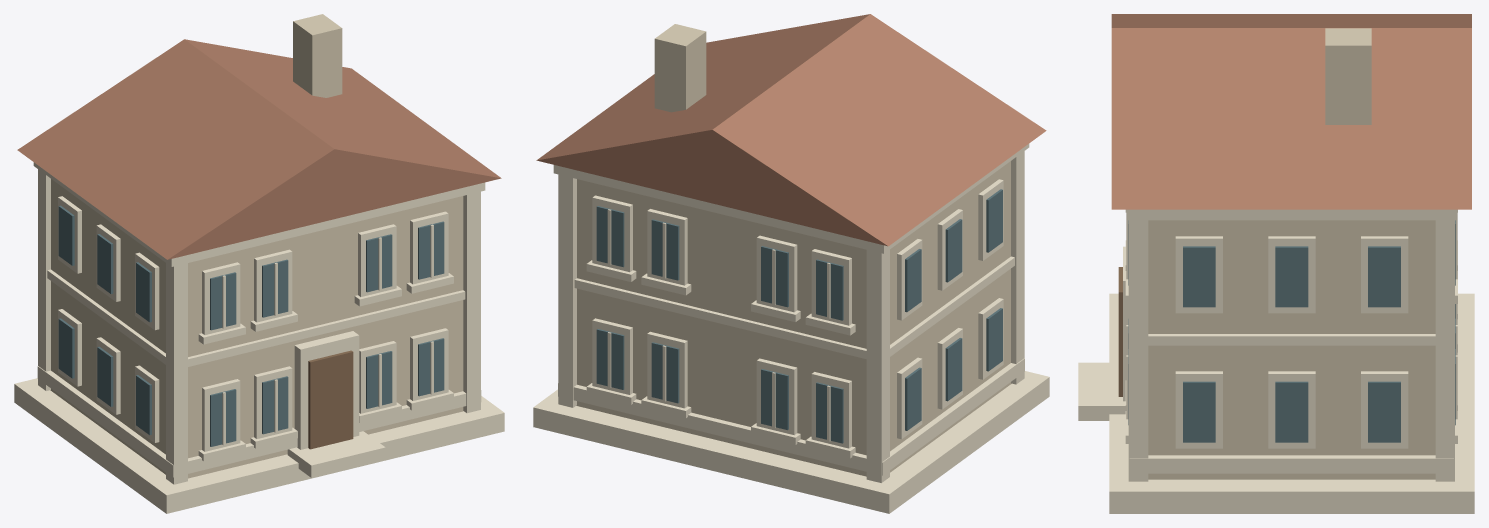
The model's file is sample-building-historical.glb.
3 renders of one model, left to right at view 1: azimuth 30°, elevation 25°; view 2: azimuth 150°, elevation 25°; view 3: azimuth 270°, elevation 25°, orthographic. The views are drawn at different scales.
Visible parts, largest first — view 1: Pitched roof, Main facade, Foundation, Corner pilaster (×3), Window glass (×8), Window frame (×8), Side glass (×6), Side frame (×6), Lower cornice, Middle stringcourse, Oak door, Early chimney (+3 smaller); view 2: Pitched roof, Main facade, Foundation, Corner pilaster (×3), Window glass (×8), Window frame (×8), Lower cornice, Side frame (×6), Side glass (×6), Middle stringcourse, Early chimney, Eaves; view 3: Pitched roof, Main facade, Foundation, Side glass (×6), Side frame (×6), Corner pilaster (×2), Lower cornice, Early chimney, Eaves, Middle stringcourse, Entrance step, Oak door (+1 smaller).
Boxes of the visible parts, x1,y1,x2,y2 form: Pitched roof: (17,39,501,259); Main facade: (50,179,463,478); Foundation: (14,378,504,513); Corner pilaster (×3): (38,169,480,484); Window glass (×8): (210,221,444,446); Window frame (×8): (202,211,448,451); Side glass (×6): (58,205,151,435); Side frame (×6): (58,196,159,442); Lower cornice: (37,366,481,477); Middle stringcourse: (47,269,465,366); Oak door: (308,350,353,449); Early chimney: (293,14,342,97); Pitched roof: (536,14,1046,246); Main facade: (576,161,1011,476); Foundation: (533,371,1049,513); Corner pilaster (×3): (558,151,1024,482); Window glass (×8): (596,206,843,443); Window frame (×8): (592,195,851,448); Lower cornice: (558,358,1024,475); Side frame (×6): (897,179,1003,439); Side glass (×6): (905,189,1002,430); Middle stringcourse: (574,256,1014,358); Early chimney: (654,24,706,112); Eaves: (553,144,1029,253); Pitched roof: (1111,14,1471,209); Main facade: (1148,220,1435,479); Foundation: (1109,293,1474,513); Side glass (×6): (1183,246,1400,442); Side frame (×6): (1175,236,1408,448); Corner pilaster (×2): (1128,220,1454,481); Lower cornice: (1129,455,1453,473); Early chimney: (1325,28,1371,124); Eaves: (1126,209,1457,220); Middle stringcourse: (1148,334,1435,345); Entrance step: (1078,362,1125,420); Oak door: (1118,267,1122,396).
Size of the model in its own units: 4.55 by 4.57 by 3.85.
